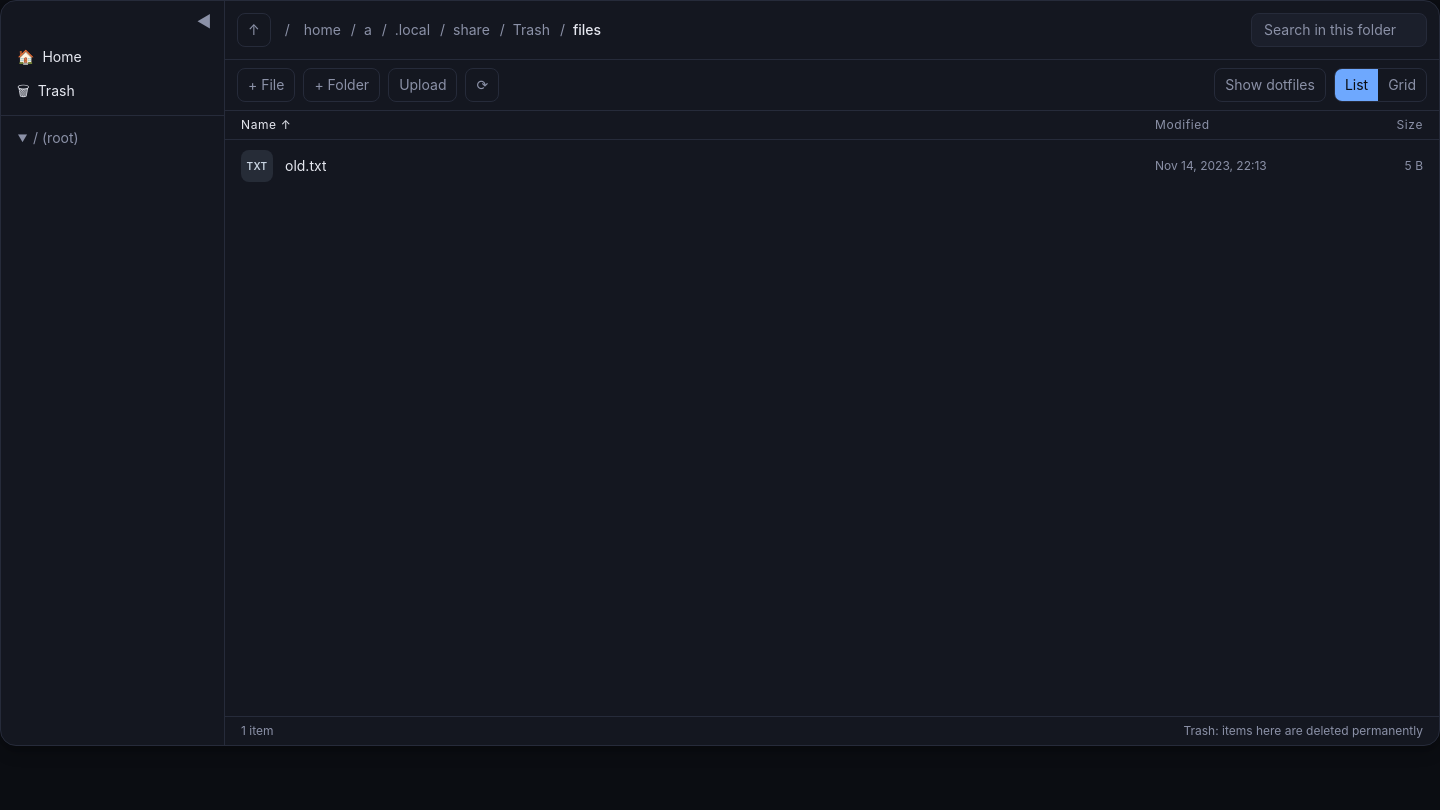
Test case: Files page › uses permanent-delete wording inside the trash
The image size is (1440, 810).
Click the option "TXT old.txt Nov 14, 2023, 22:13 5 B" at coordinates (257, 166), box [229,144,1435,188]
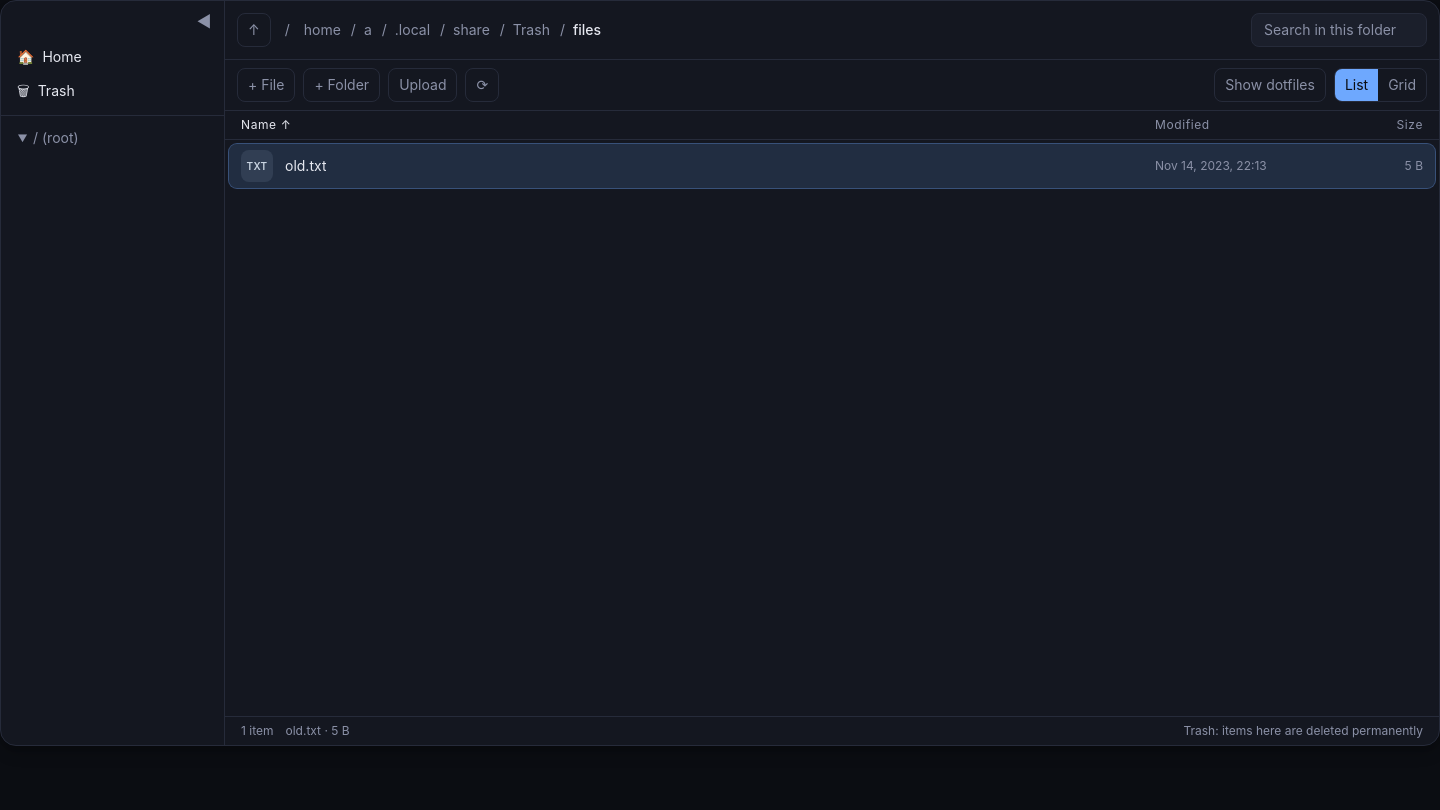
Press Delete in the list "TXT old.txt Nov 14, 2023, 22:13 5 B", box [229,144,1435,188]
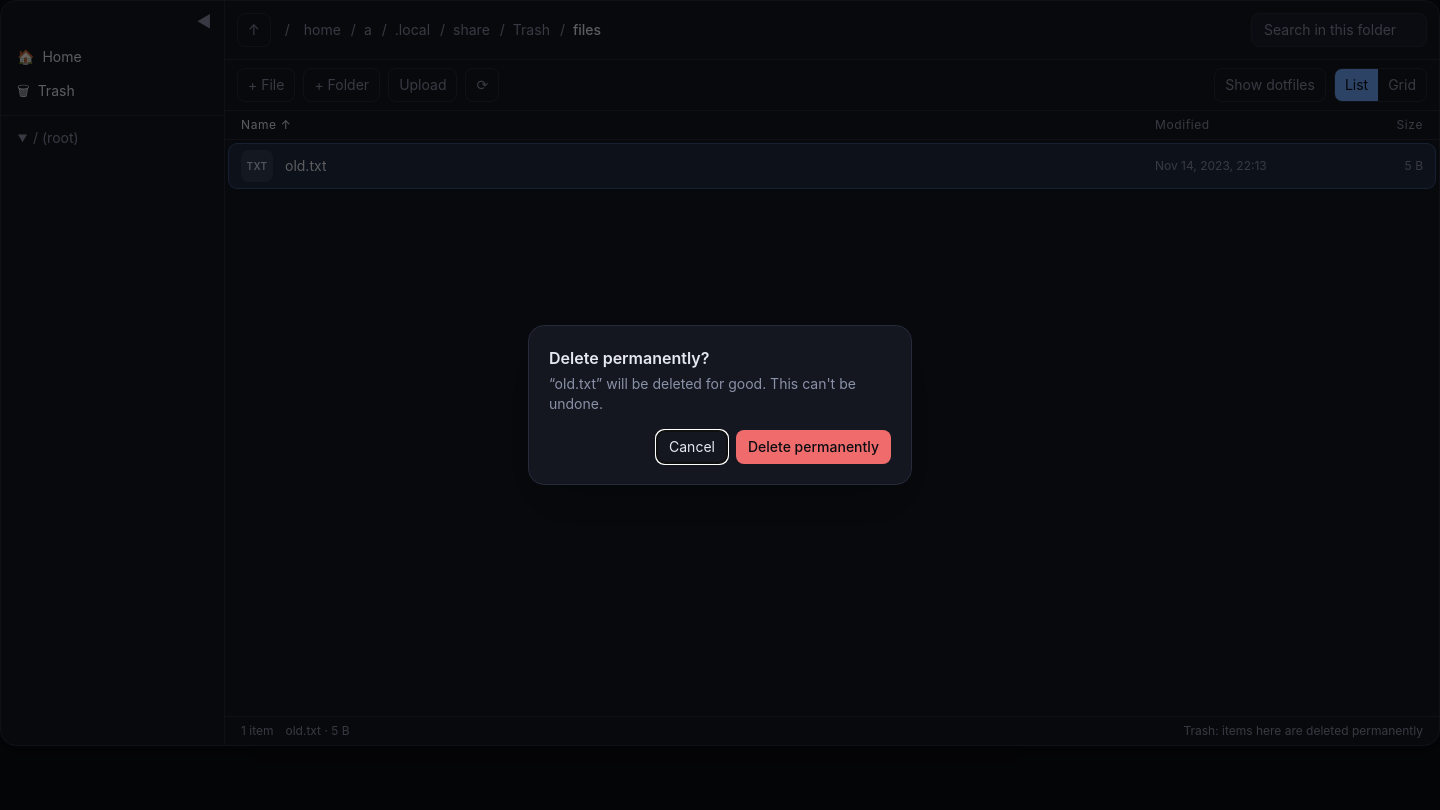
Expected: the text "Trash: items here are deleted permanently" is shown, [1183,723,1423,739]
Expected: the dialog "Delete permanently?" is shown
